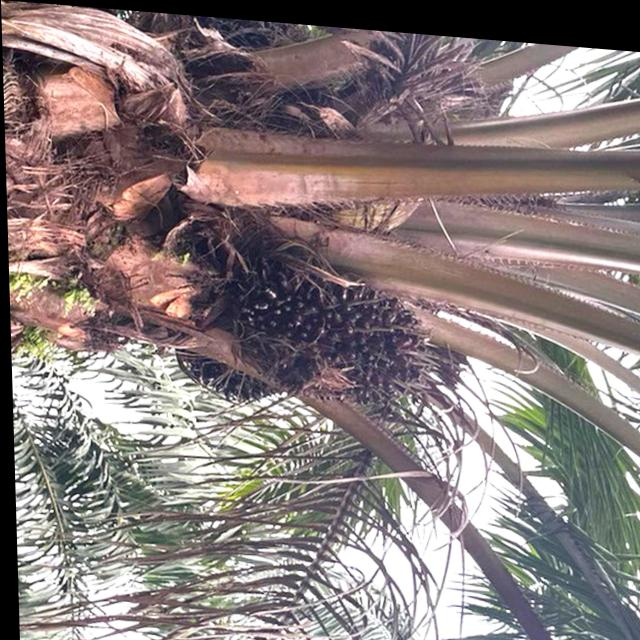ripe: (328, 255, 447, 404)
